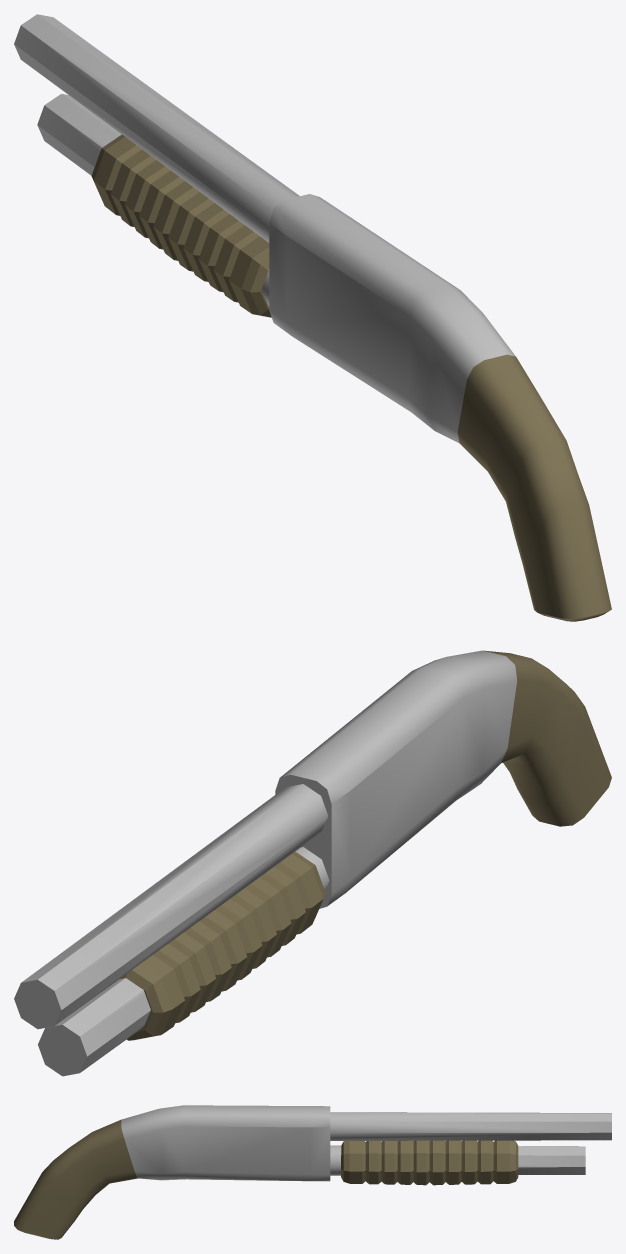
Rendered from Shotgun.fbx.
The picture shows the model from 3 angles, top to bottom: view 1: azimuth 30°, elevation 25°; view 2: azimuth 150°, elevation 25°; view 3: azimuth 270°, elevation 25°; orthographic projection. The views are drawn at different scales.
Visible parts, largest first — view 1: base, pump; view 2: base, pump; view 3: base, pump.
Boxes of the visible parts, x1,y1,x2,y2 form: base: (14, 14, 611, 621); pump: (91, 134, 271, 317); base: (14, 650, 611, 1076); pump: (120, 851, 325, 1040); base: (14, 1105, 611, 1239); pump: (341, 1140, 518, 1185).
Size of the model in its own units: 1.76 by 4.94 by 21.04.
